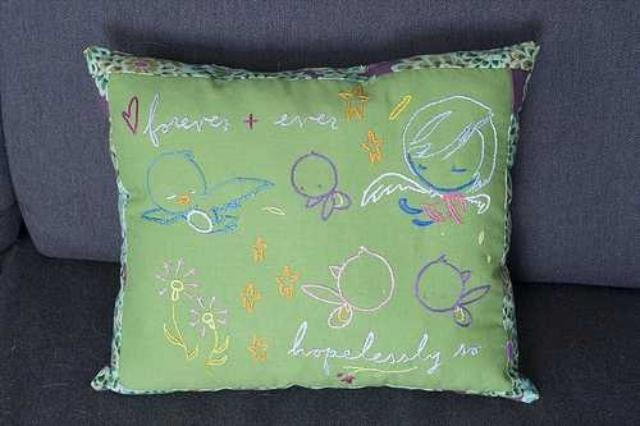pillow: (82, 40, 542, 402)
